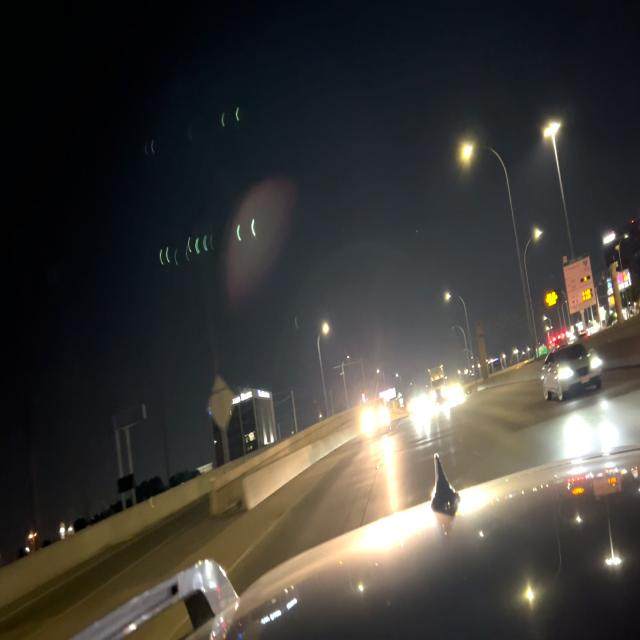back-of-sign: (205, 374, 234, 433)
